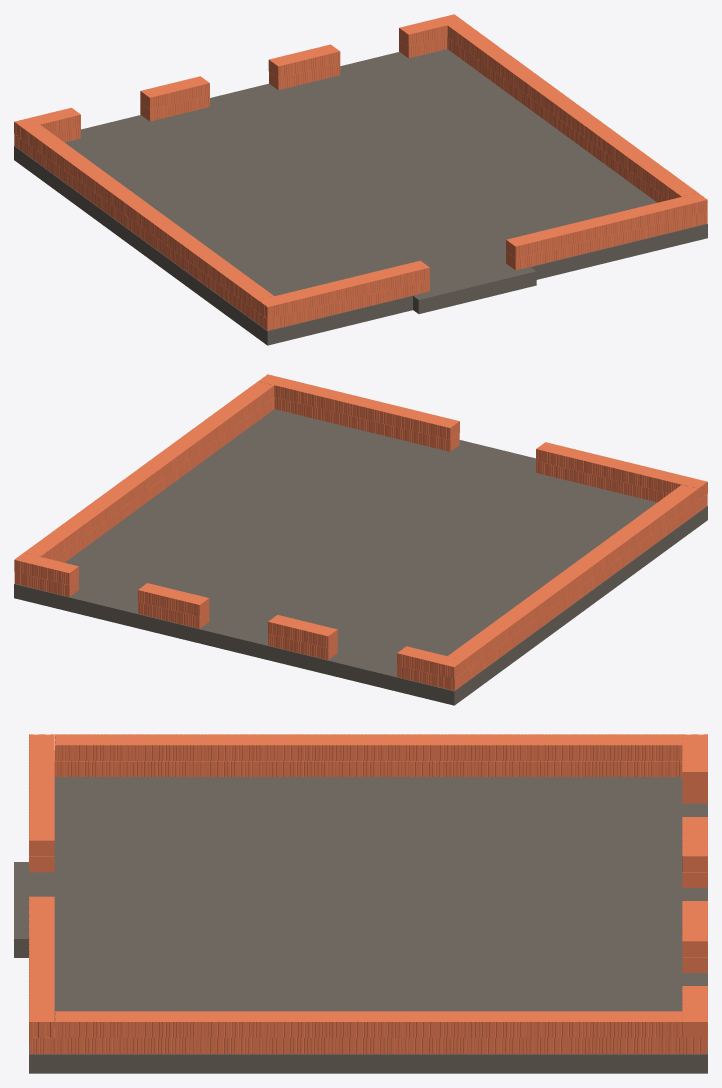
3 views of the same model, one above another, from view 1: azimuth 30°, elevation 25°; view 2: azimuth 150°, elevation 25°; view 3: azimuth 270°, elevation 25° (orthographic). The views are drawn at different scales.
Parts seen in each view (by area): view 1: Bodenplatte; view 2: Bodenplatte; view 3: Bodenplatte.
Part boxes in pixels (<box>): Bodenplatte: <box>14,14,707,345</box>; Bodenplatte: <box>14,374,707,705</box>; Bodenplatte: <box>14,734,707,1073</box>.
Bounding box in the file's own units: 9.73 × 0.8106 × 9.92.
